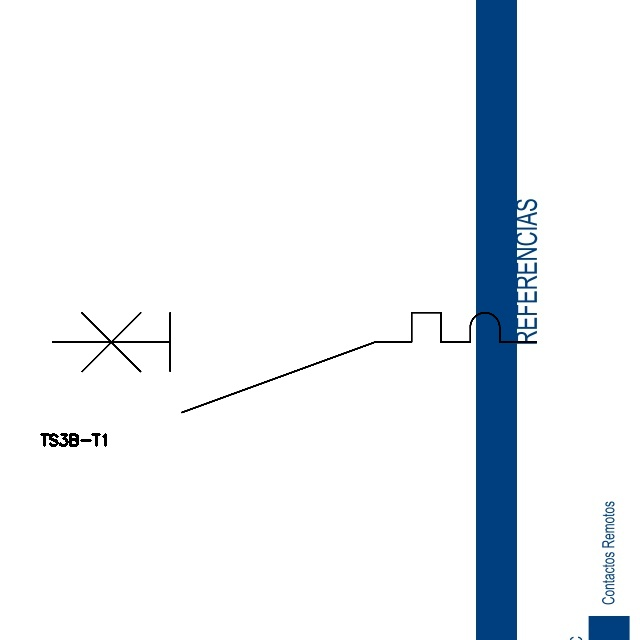interruptor_termomagnetico: (40, 300, 549, 424)
